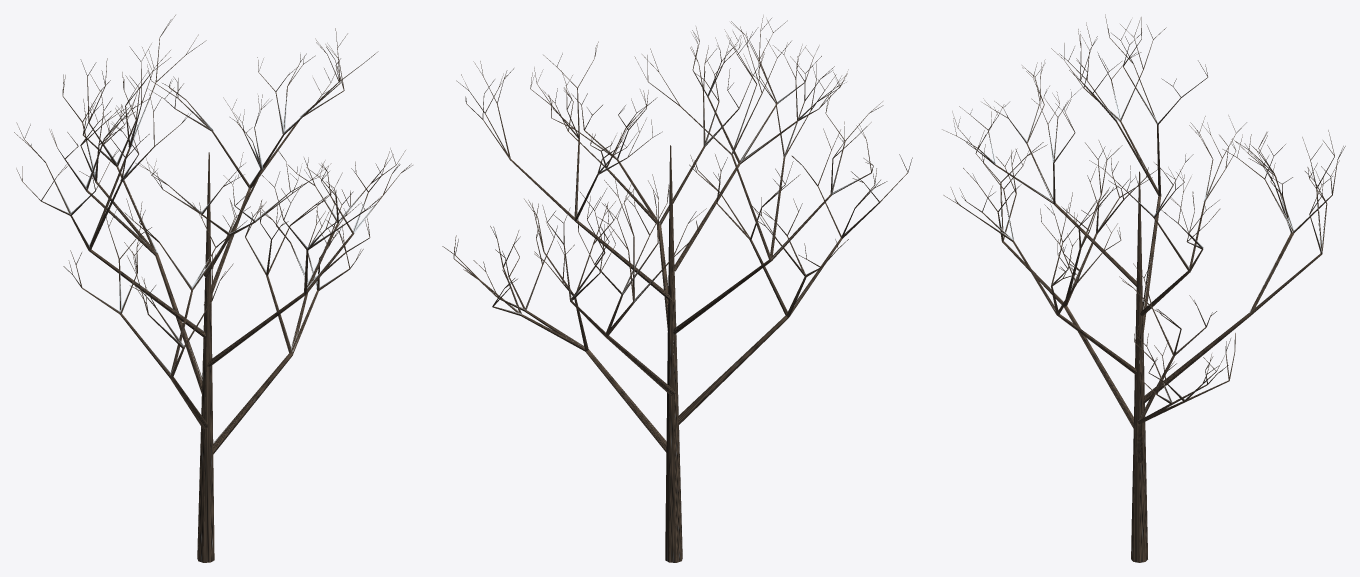
The model's file is winter-maple.glb.
3 views of the same model, side by side, from view 1: azimuth 30°, elevation 25°; view 2: azimuth 150°, elevation 25°; view 3: azimuth 270°, elevation 25° (orthographic). The views are drawn at different scales.
Visible parts, largest first — view 1: bark, snow; view 2: bark, snow; view 3: bark, snow.
Boxes of the visible parts, bbox=[...] form: bark: bbox=[14, 15, 412, 562]; snow: bbox=[47, 89, 377, 443]; bark: bbox=[442, 15, 912, 562]; snow: bbox=[504, 80, 862, 345]; bark: bbox=[942, 14, 1345, 562]; snow: bbox=[983, 82, 1325, 420].
Size of the model in its own units: 13.61 by 18.36 by 13.2.
Materials: 2 (1 with a texture image).
